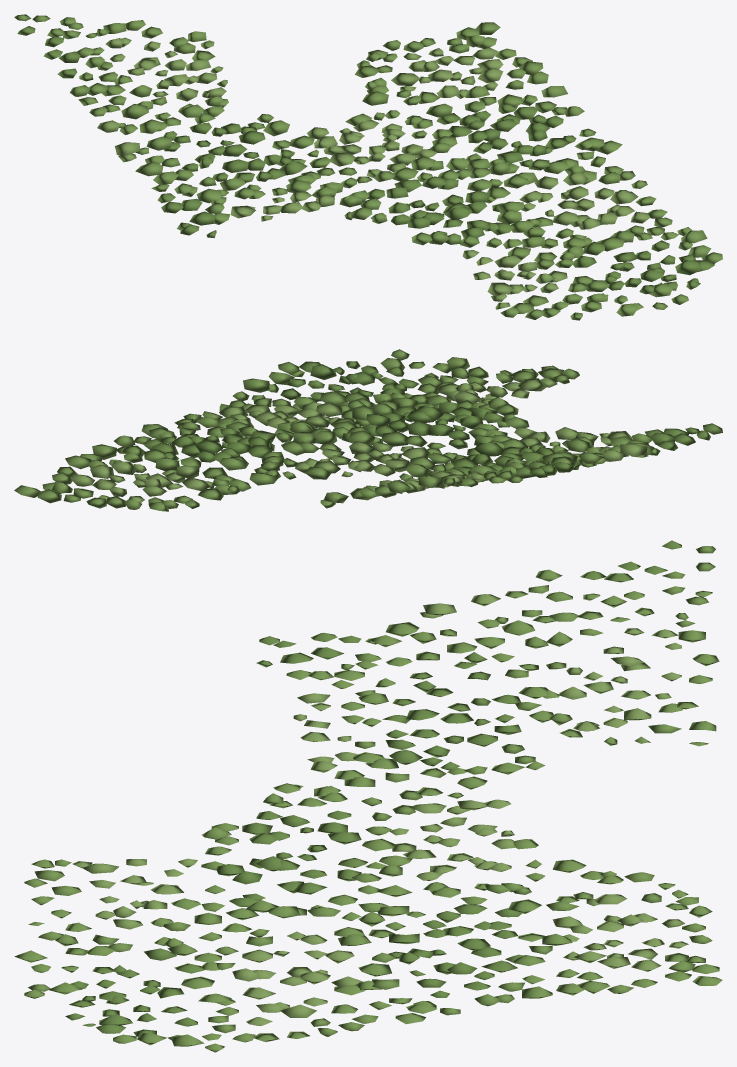
The model's file is canopy-1--6--3.glb.
The picture shows the model from 3 angles, top to bottom: view 1: azimuth 30°, elevation 25°; view 2: azimuth 150°, elevation 25°; view 3: azimuth 270°, elevation 25°; orthographic projection. The views are drawn at different scales.
Size of the model in its own units: 518 by 185 by 520.
Materials: 1 (1 with a texture image).
